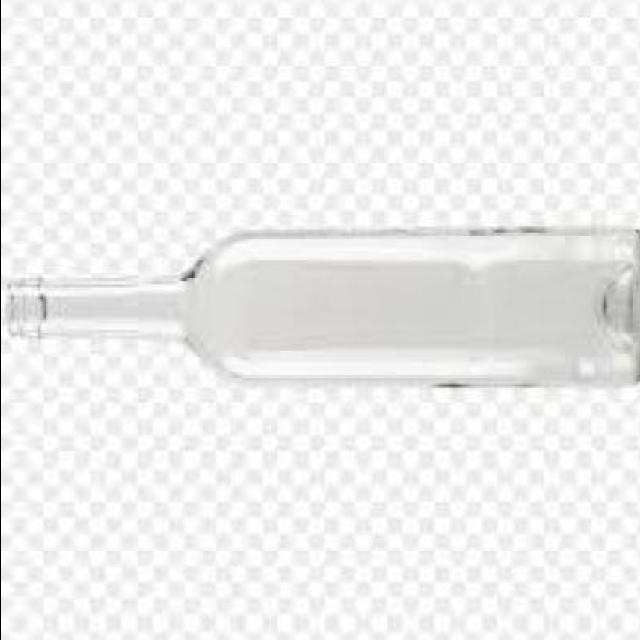kaca: (5, 230, 640, 384)
